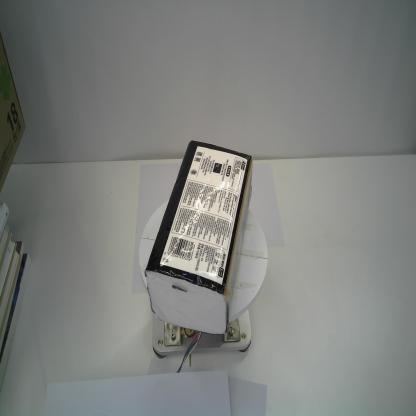Tissue: (142, 138, 255, 338)
